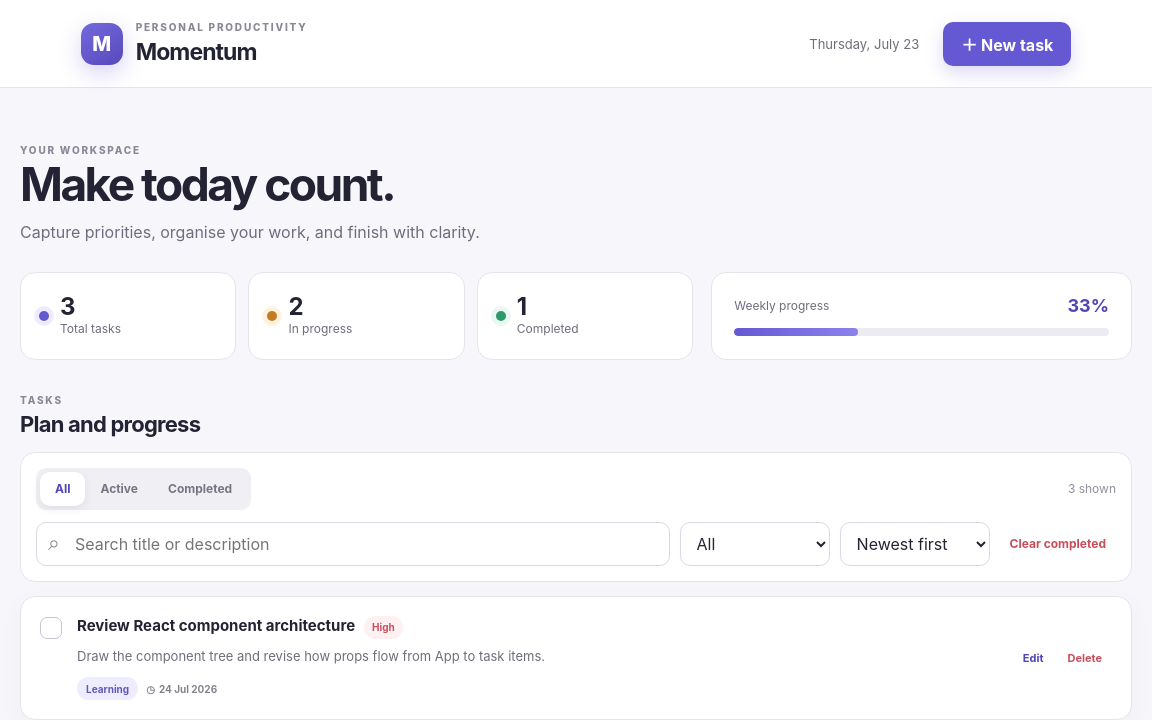
filters completed tasks
Click the button "Completed". click: (200,489)
box: top-left (153, 472), bottom-right (247, 506)
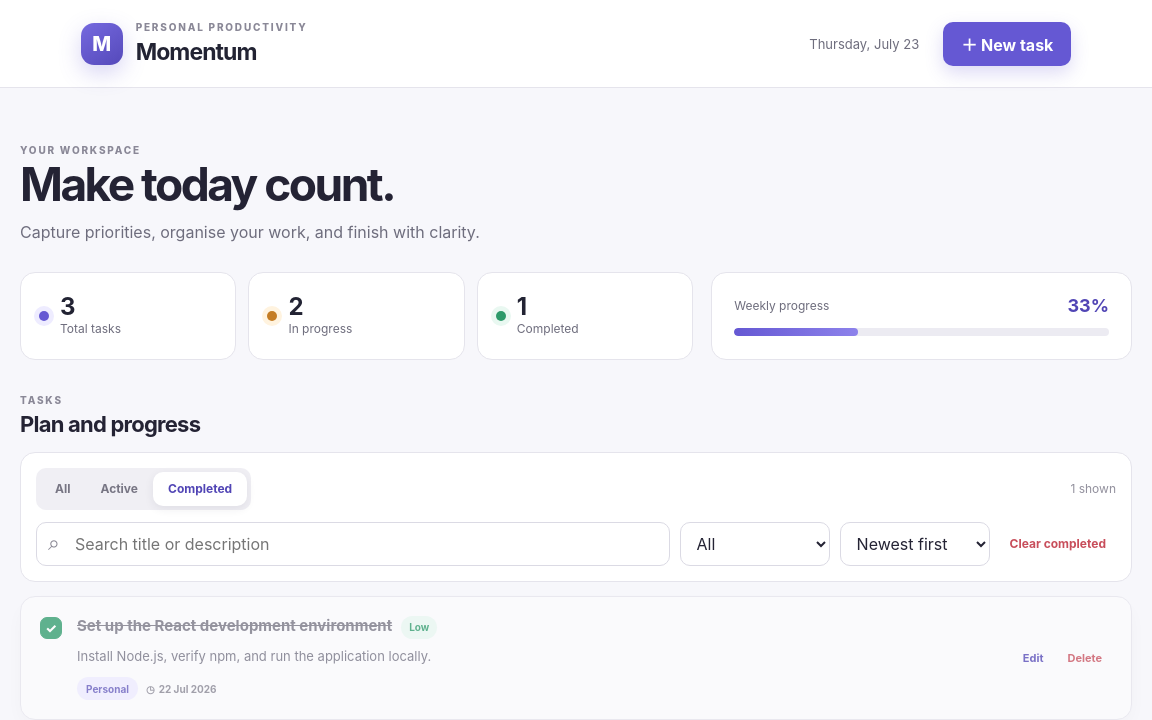
Expected: the heading "Set up the React development environment" is shown, top-left (77, 616), bottom-right (392, 636)
Now the heading "Review React component architecture" is gone
